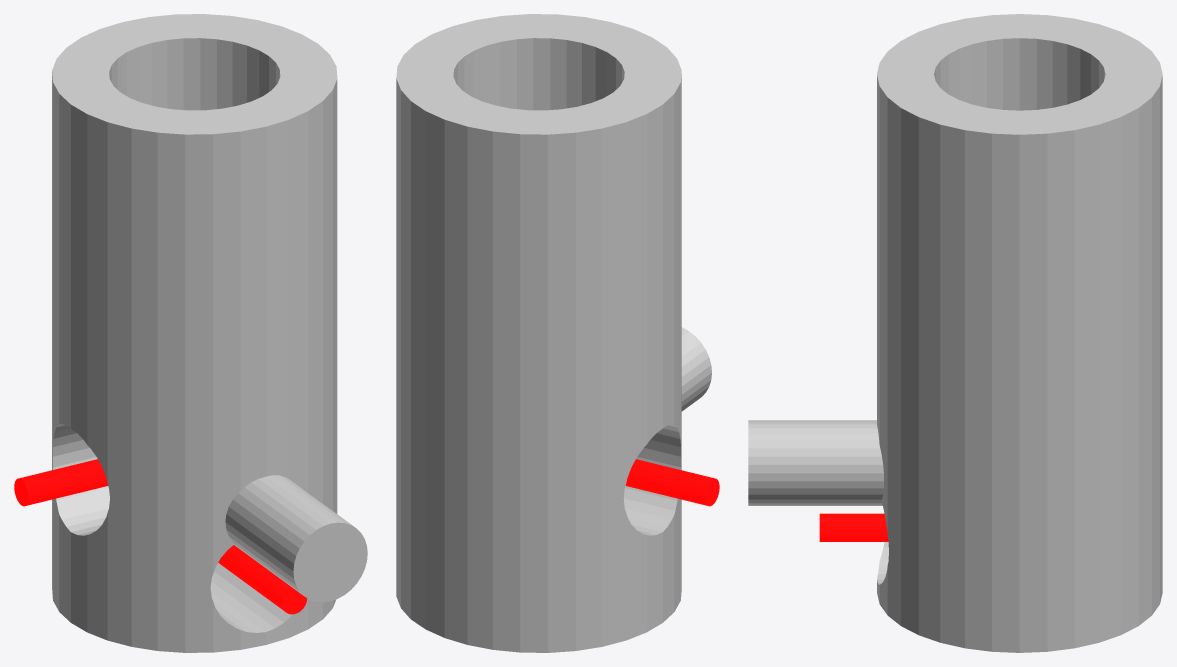
File: LOT129_51c83ca9.glb
The picture shows the model from 3 angles, left to right: view 1: azimuth 30°, elevation 25°; view 2: azimuth 150°, elevation 25°; view 3: azimuth 270°, elevation 25°; orthographic projection.
Parts seen in each view (by area): view 1: Cylinder, Cylinder.004, Cylinder.002; view 2: Cylinder, Cylinder.004; view 3: Cylinder, Cylinder.002.
Part boxes in pixels (x1,y1,x2,y2): Cylinder: (52, 14, 367, 652); Cylinder.004: (14, 459, 108, 506); Cylinder.002: (218, 545, 307, 614); Cylinder: (396, 14, 711, 652); Cylinder.004: (625, 459, 719, 506); Cylinder: (748, 14, 1162, 652); Cylinder.002: (819, 513, 888, 541).
Size of the model in its own units: 1.2 by 2 by 1.45.
